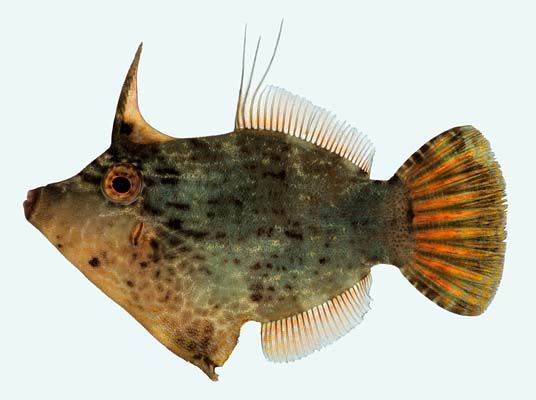fish: (22, 42, 509, 380)
